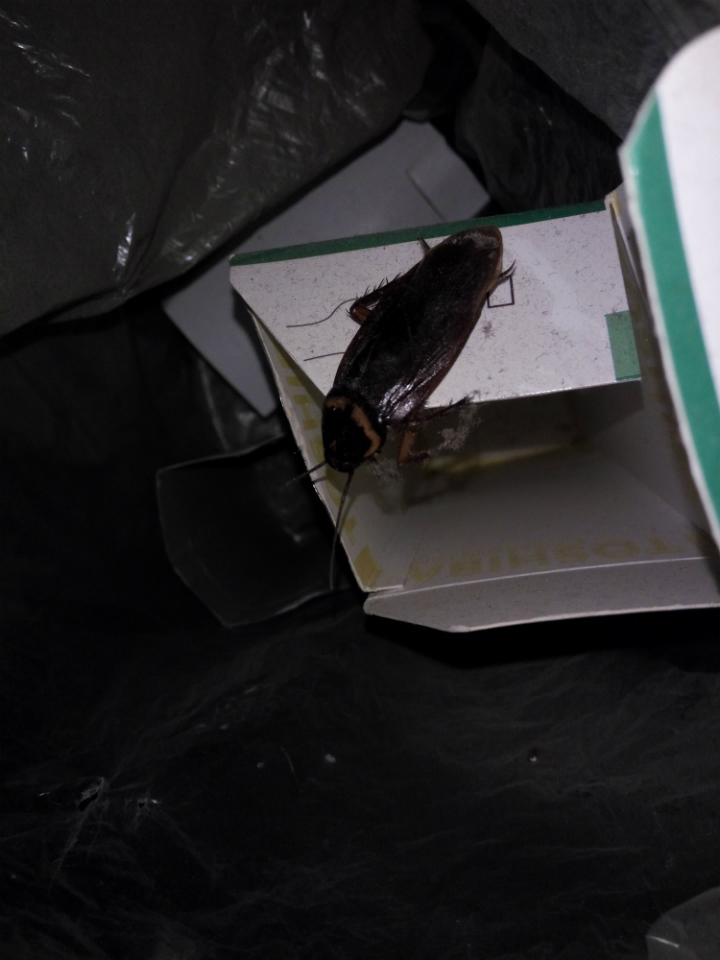cockroach: (173, 180, 556, 584)
